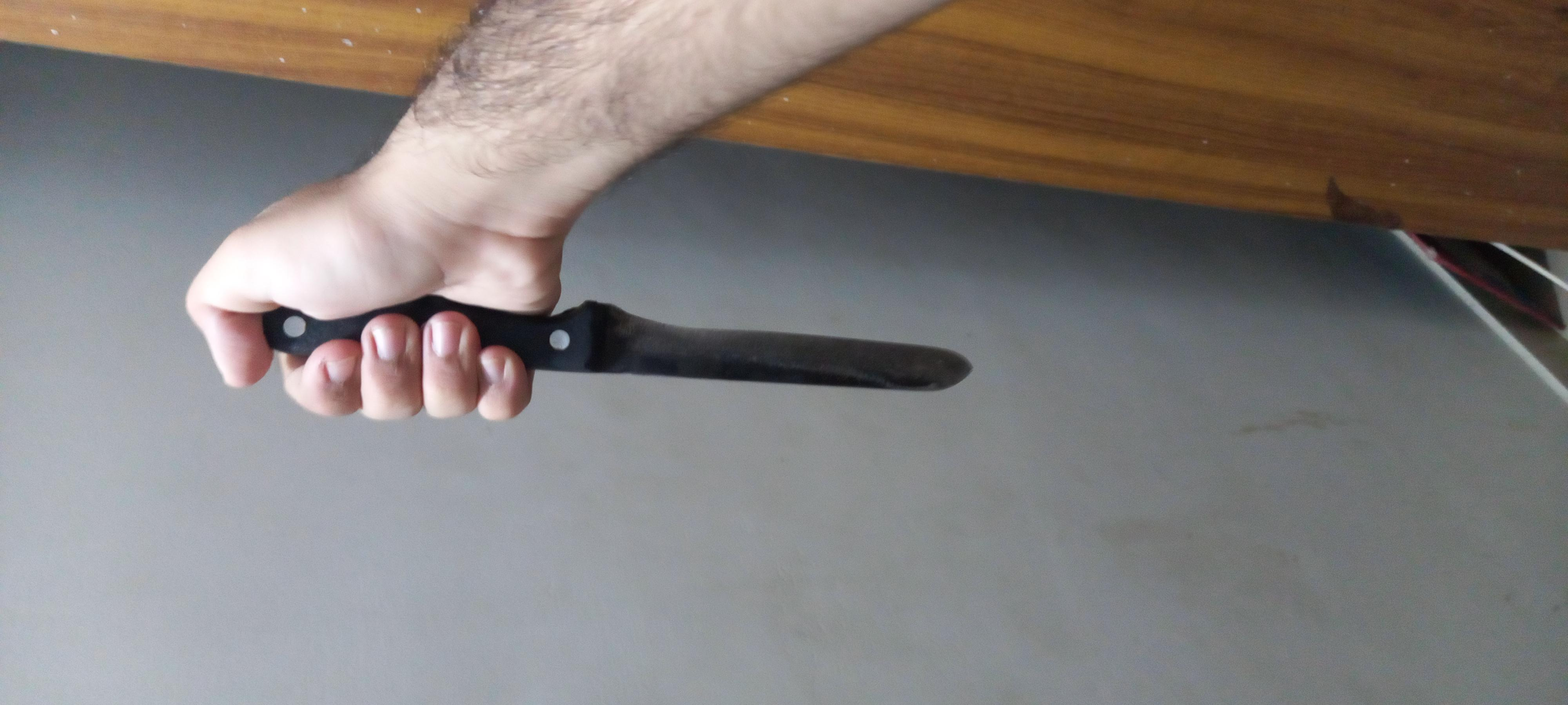knives: (625, 84, 1049, 445)
